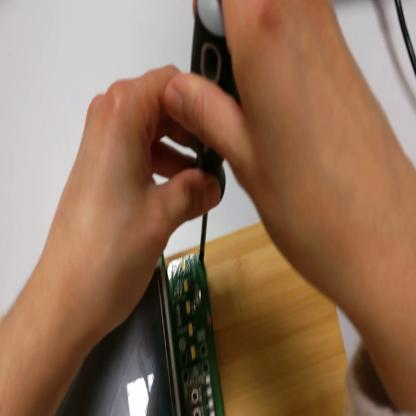hand: (164, 2, 396, 318), (48, 64, 212, 339)
low voltage board: (57, 259, 224, 416)
screwdriver-: (189, 3, 240, 266)
working area: (165, 228, 348, 416)
